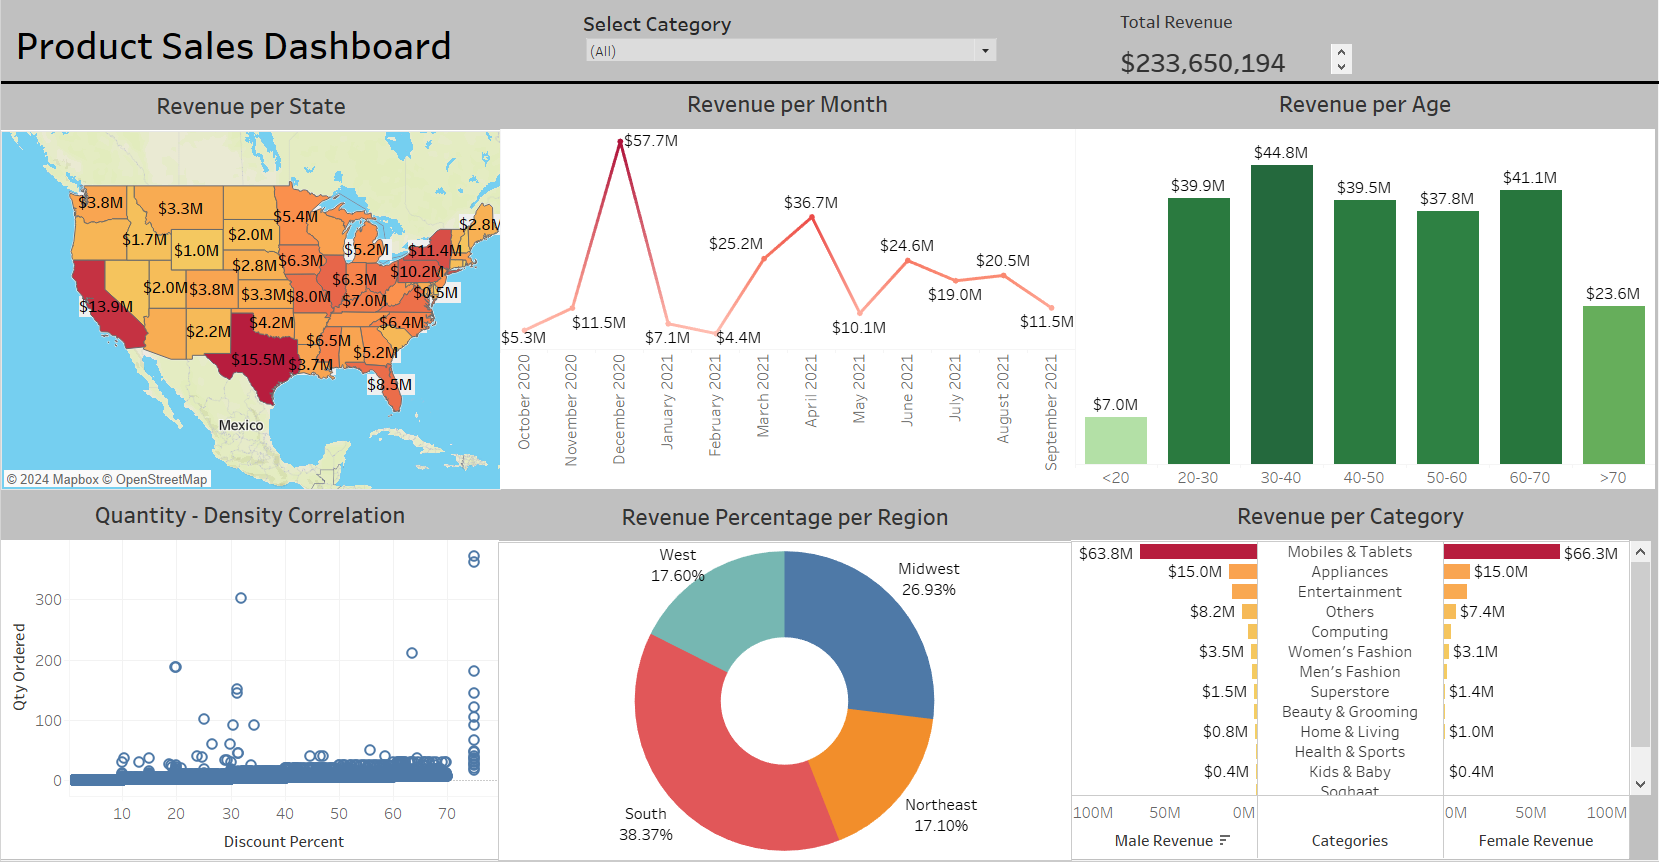

Layout of this report page (visuals, bound fields, positions):
{"tool":"tableau","page":{"name":"Complete Product Sales Analysis","canvas":[1000,1000],"units":"permille","ordinal":0},"visuals":[{"type":"worksheet","title":"Total Revenue","mark":"Automatic","box":[672.9,7,142.4,80.1]},{"type":"text","box":[6.6,8.1,333.7,89.4]},{"type":"filter","title":"Revenue per Category","param":"[federated.1uqened0hy2sg91g8j7t00vzm8d1].[none:category:nk]","box":[351.2,11.6,251.7,60.4]},{"type":"worksheet","title":"Revenue Per Month","mark":"Automatic","rows":["total"],"cols":["month"],"box":[301.2,98.7,347,470.4]},{"type":"worksheet","title":"Revenue per Age","mark":"Automatic","rows":["total"],"cols":["Age (bin)"],"box":[648.2,98.7,350,470.4]},{"type":"worksheet","title":"Revenue Per State","mark":"Automatic","box":[0,101,301.8,469.2]},{"type":"worksheet","title":"Quantity - Density Correlation","mark":"Automatic","rows":["qty_ordered"],"cols":["Discount_Percent"],"box":[0,576.1,300.5,422.8]},{"type":"worksheet","title":"Revenue per Category","mark":"Automatic","rows":["category"],"cols":["Calculation_141300469151195138","Calculation_141300469149900800","Calculation_141300469150896129"],"box":[645.8,577.2,350,421.6]},{"type":"worksheet","title":"Revenue Percentage per Region","mark":"Pie","rows":["Calculation_141300469149900800","Calculation_141300469149900800"],"box":[299.9,578.4,346.4,422.8]}]}

Visuals, with their boxes on the dashboard's canvas, which has no fixed pixel size, in thousandths of its width and height (x1, y1, x2, y2). These are canvas units, not pixel positions in the 1659x862 screenshot, which may show the page scaled, cropped or inside an application window:
"Total Revenue" worksheet: BBox(673, 7, 815, 87)
text: BBox(7, 8, 340, 98)
"Revenue per Category" filter: BBox(351, 12, 603, 72)
"Revenue Per Month" worksheet: BBox(301, 99, 648, 569)
"Revenue per Age" worksheet: BBox(648, 99, 998, 569)
"Revenue Per State" worksheet: BBox(0, 101, 302, 570)
"Quantity - Density Correlation" worksheet: BBox(0, 576, 300, 999)
"Revenue per Category" worksheet: BBox(646, 577, 996, 999)
"Revenue Percentage per Region" worksheet (Pie marks): BBox(300, 578, 646, 1001)
